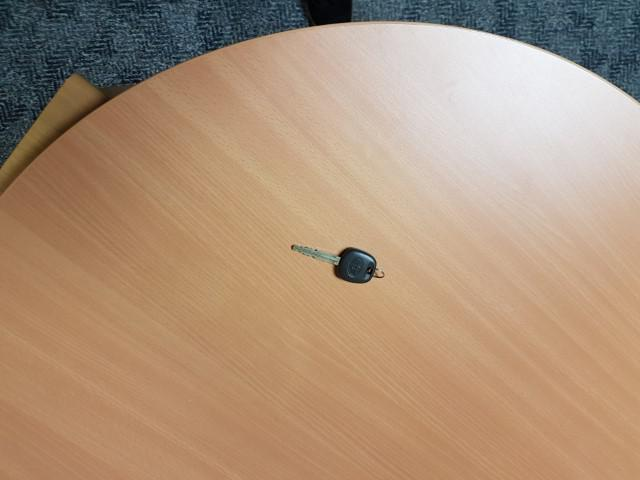key: (289, 235, 386, 295)
